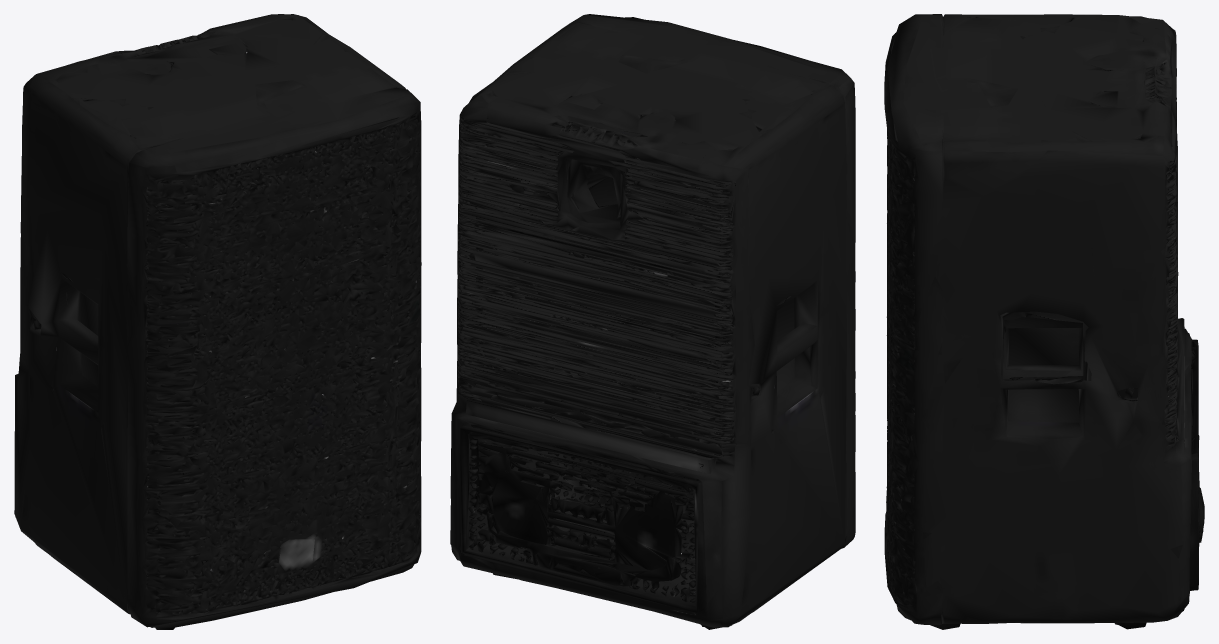
The model's file is wedge-1.glb.
3 views of the same model, side by side, from view 1: azimuth 30°, elevation 25°; view 2: azimuth 150°, elevation 25°; view 3: azimuth 270°, elevation 25° (orthographic). The views are drawn at different scales.
Parts seen in each view (by area): view 1: geometry_0; view 2: geometry_0; view 3: geometry_0.
Boxes of the visible parts, x1,y1,x2,y2 form: geometry_0: (14, 14, 421, 629); geometry_0: (450, 14, 855, 629); geometry_0: (884, 14, 1204, 629).
Size of the model in its own units: 0.6265 by 1 by 0.5883.
1 material, 1 textured.
